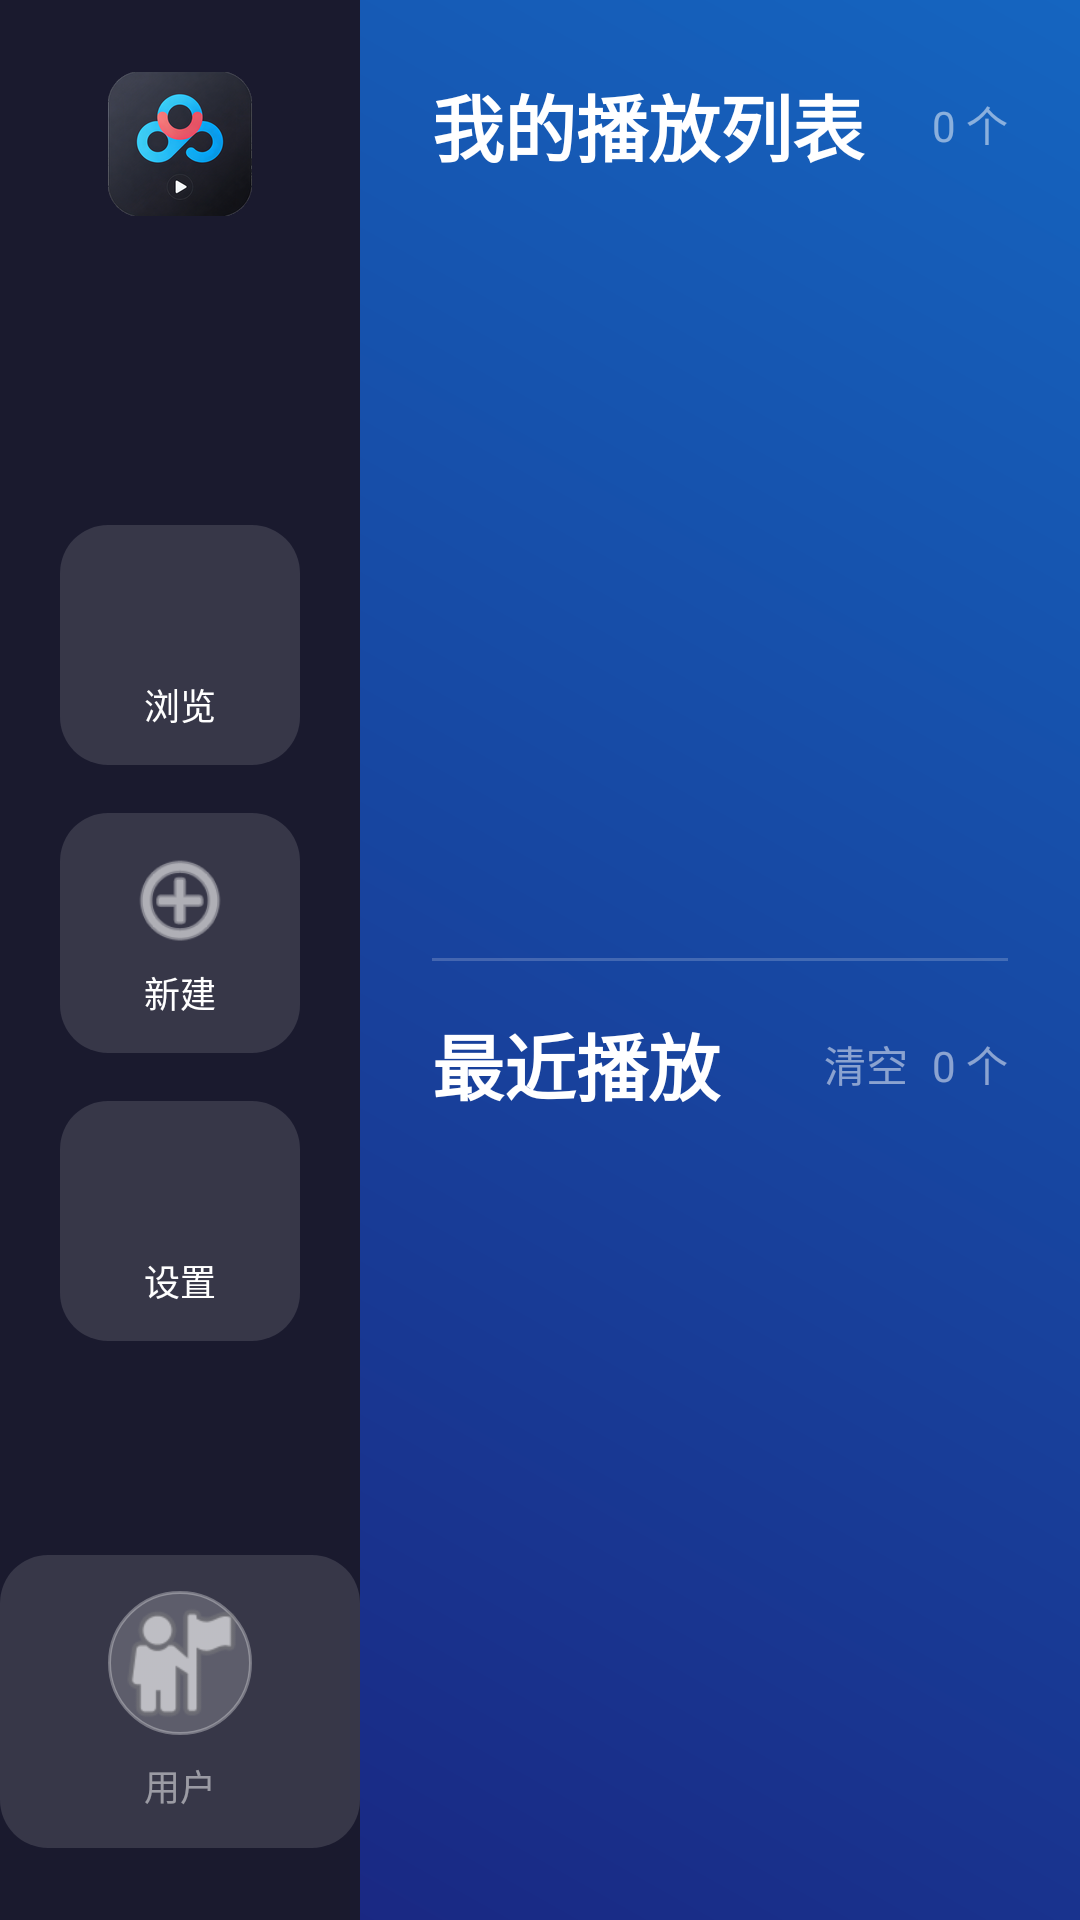

Icon bounding boxes for this 1080x1920 phone screenshot, format {"left": x1, "top": y1, "right": x2, "bottom": y2}:
myplaces: {"left": 108, "top": 1591, "right": 252, "bottom": 1735}
